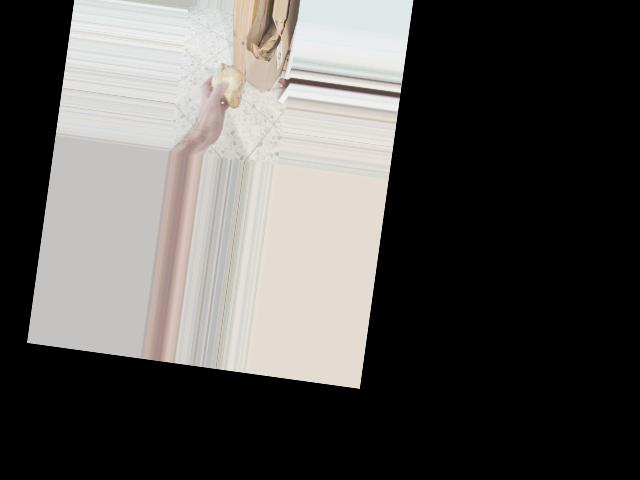onion: (206, 60, 249, 111)
